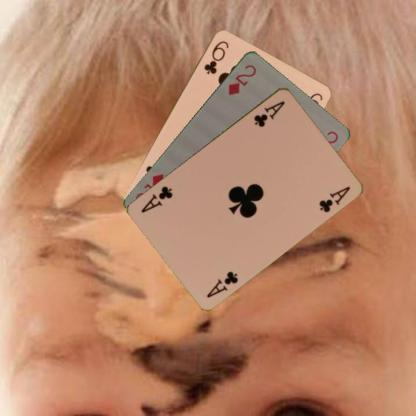2d: (225, 61, 258, 96)
6c: (201, 37, 230, 76)
Ac: (250, 97, 286, 128), (204, 268, 240, 299)
